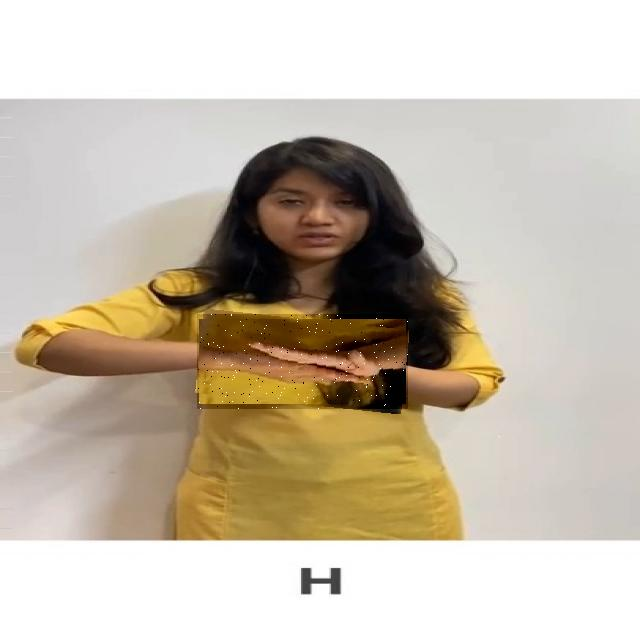H: (197, 314, 408, 409)
